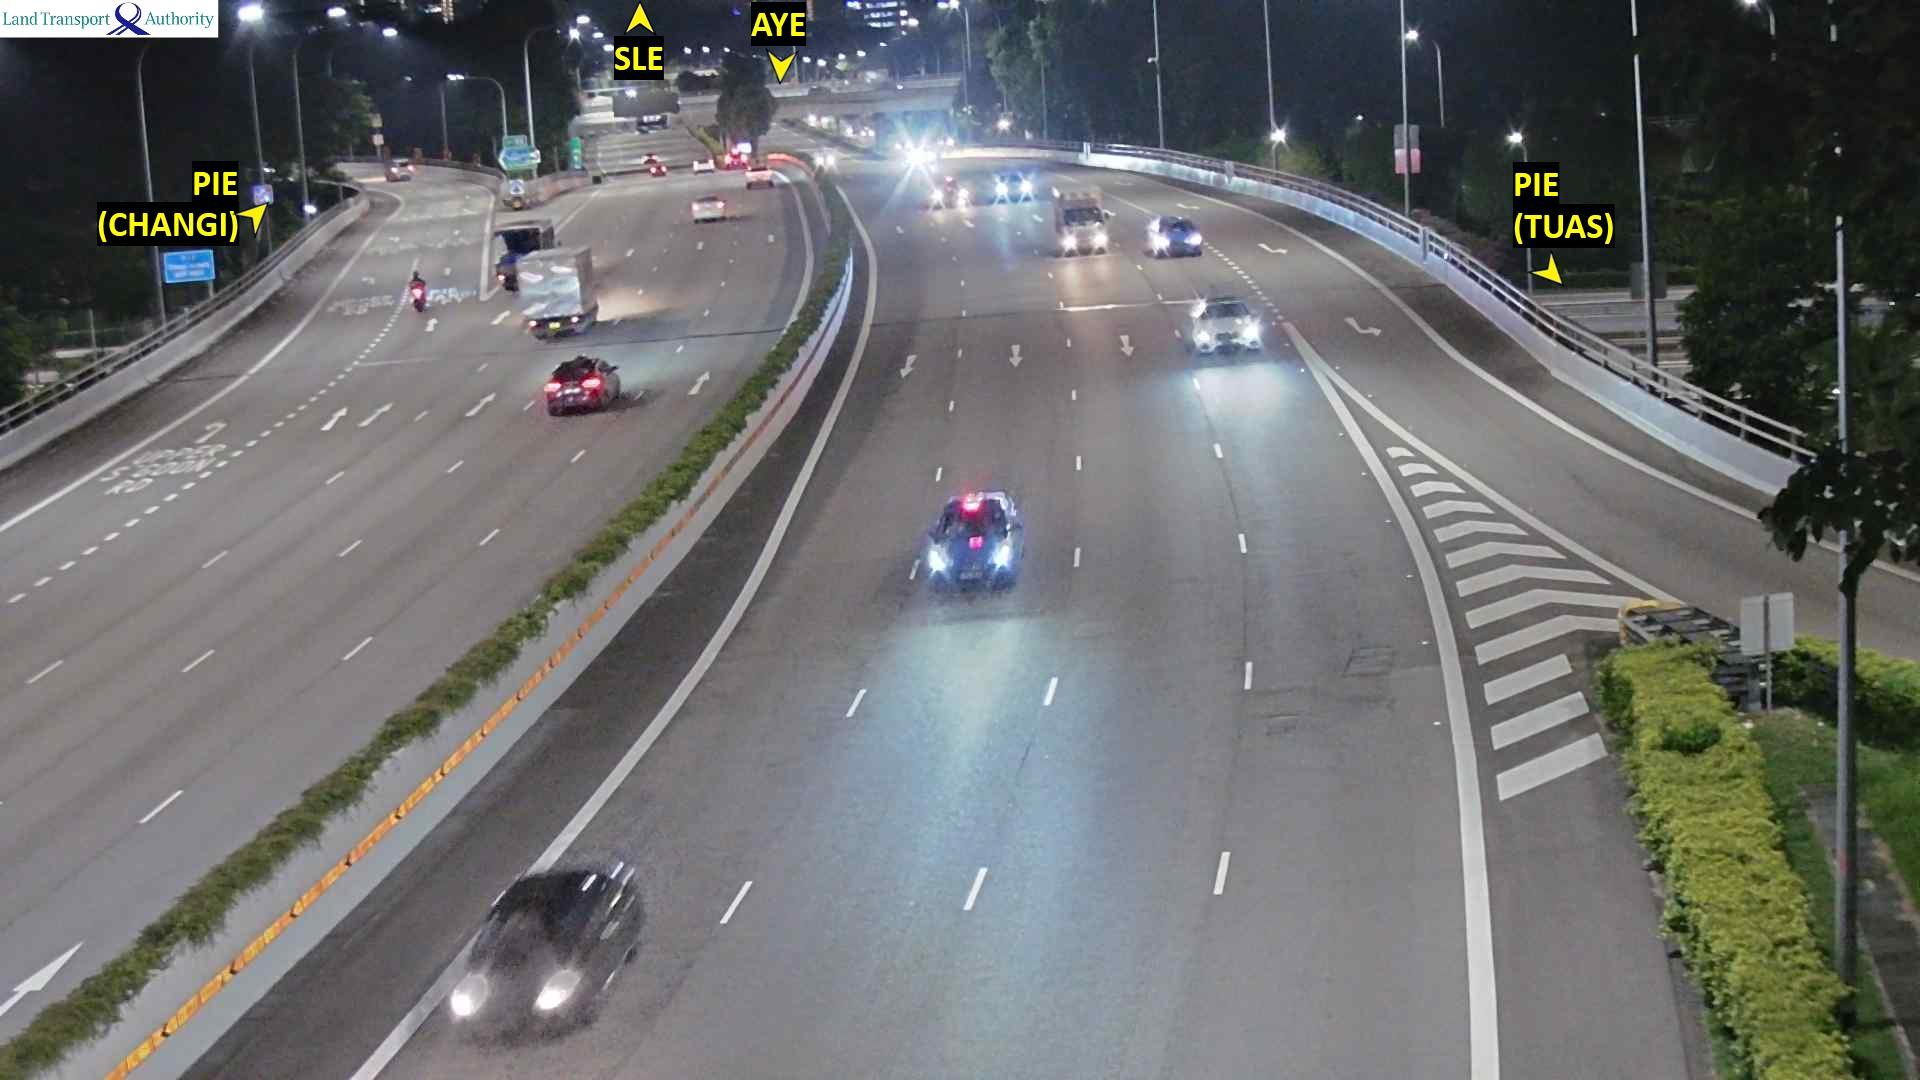incoming: (443, 885, 614, 1043), (919, 497, 1028, 596), (1193, 297, 1264, 356), (1056, 204, 1115, 259), (1147, 218, 1205, 260), (993, 170, 1034, 202), (931, 177, 969, 207)
